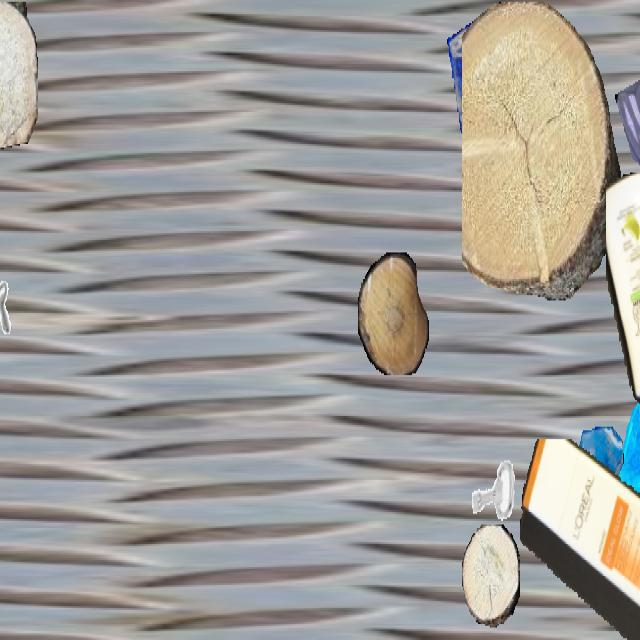glass: (447, 2, 539, 165), (600, 400, 640, 567), (564, 427, 624, 533), (614, 68, 640, 192)
metal: (519, 165, 577, 268), (466, 441, 522, 540), (0, 272, 13, 354)
plastic: (520, 439, 640, 638), (606, 172, 640, 428), (0, 2, 32, 180)
wood: (462, 2, 620, 300), (358, 252, 428, 374), (462, 524, 520, 628), (0, 2, 37, 148)
